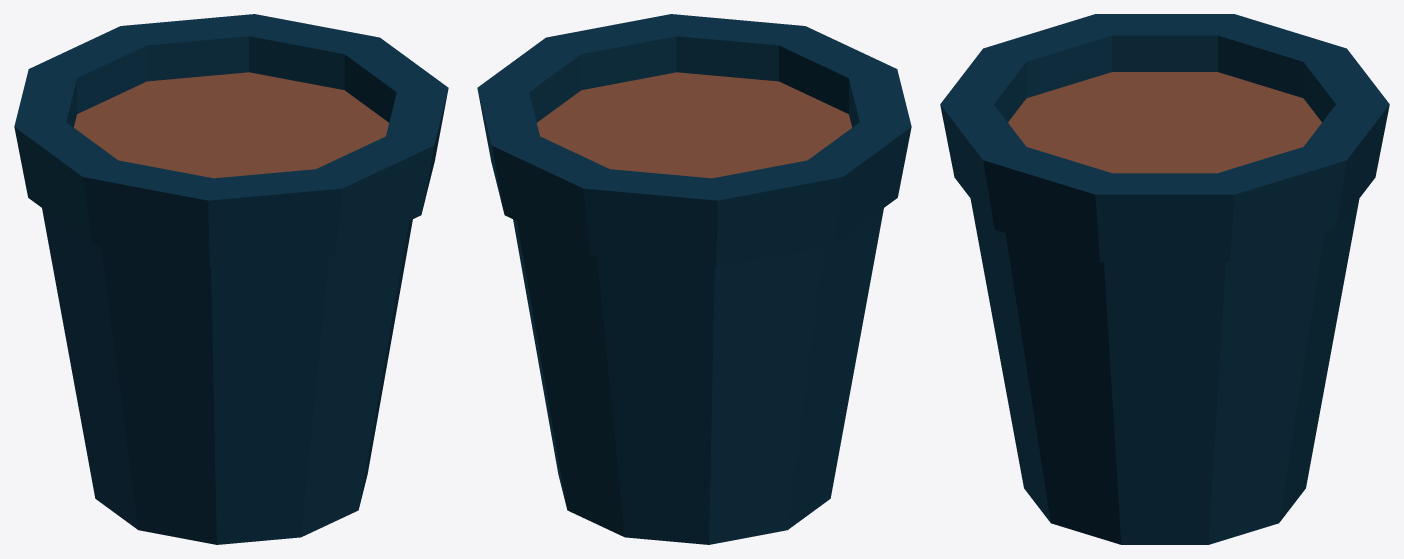
File: Pot_2_vc.fbx
The picture shows the model from 3 angles, left to right: view 1: azimuth 30°, elevation 25°; view 2: azimuth 150°, elevation 25°; view 3: azimuth 270°, elevation 25°; orthographic projection.
Visible parts, largest first — view 1: Pot_2_vc; view 2: Pot_2_vc; view 3: Pot_2_vc.
Boxes of the visible parts, x1,y1,x2,y2 form: Pot_2_vc: (14,14,448,544); Pot_2_vc: (477,14,911,544); Pot_2_vc: (940,14,1389,544).
Size of the model in its own units: 78.97 by 78.23 by 83.04.
